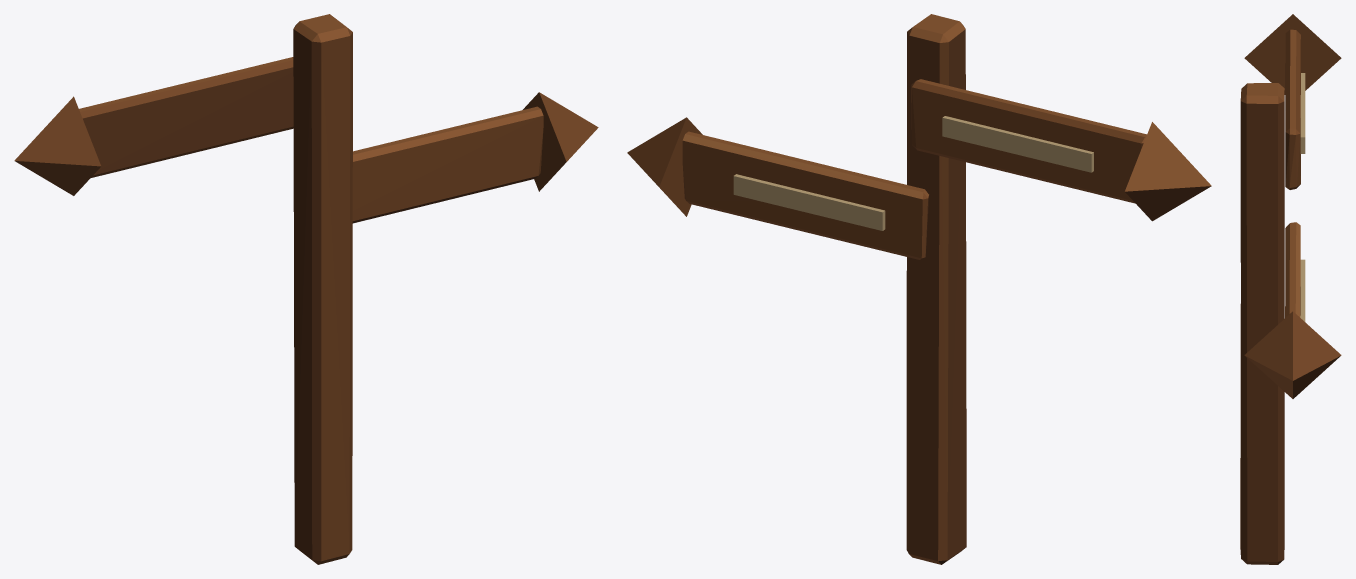
File: SM_SIGN_POST_01.fbx
3 renders of one model, left to right at view 1: azimuth 30°, elevation 25°; view 2: azimuth 150°, elevation 25°; view 3: azimuth 270°, elevation 25°, orthographic. The views are drawn at different scales.
Parts seen in each view (by area): view 1: SIGN_POST_01; view 2: SIGN_POST_01; view 3: SIGN_POST_01.
Boxes of the visible parts, x1,y1,x2,y2 form: SIGN_POST_01: (14, 14, 598, 564); SIGN_POST_01: (627, 14, 1211, 564); SIGN_POST_01: (1240, 14, 1341, 564).
Bounding box in the file's own units: 1.96 × 0.3331 × 1.7.
